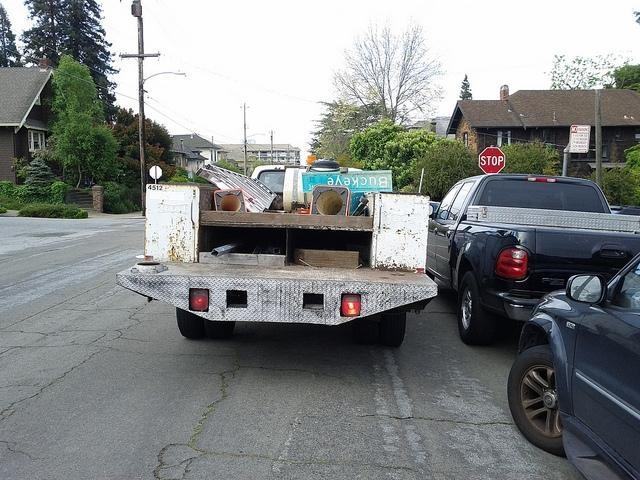car: (507, 251, 638, 474)
truck: (115, 154, 439, 350), (426, 172, 640, 347)
